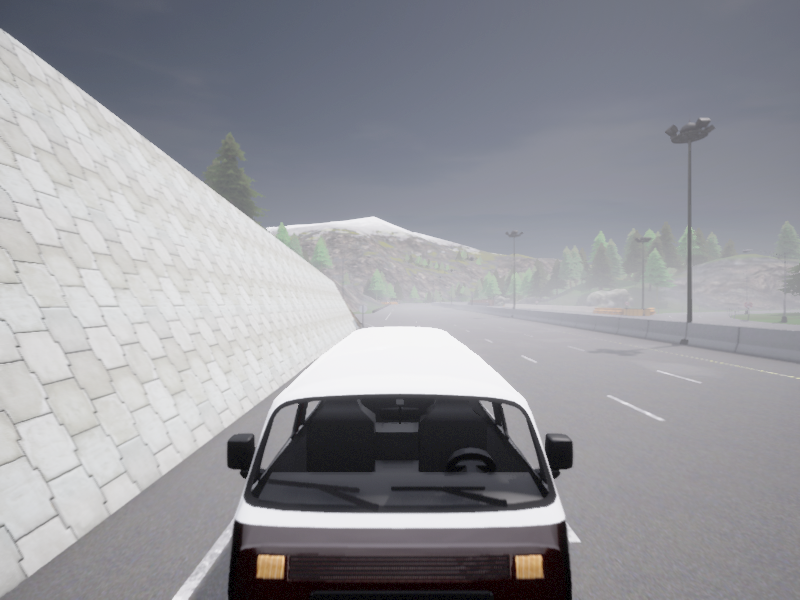vehicle: (227, 327, 572, 599)
